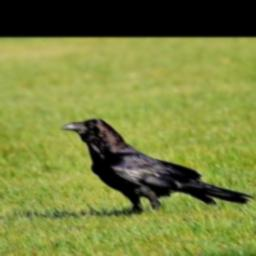Crow: (55, 116, 255, 216)
